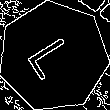L_NE: (24, 30, 83, 83)
